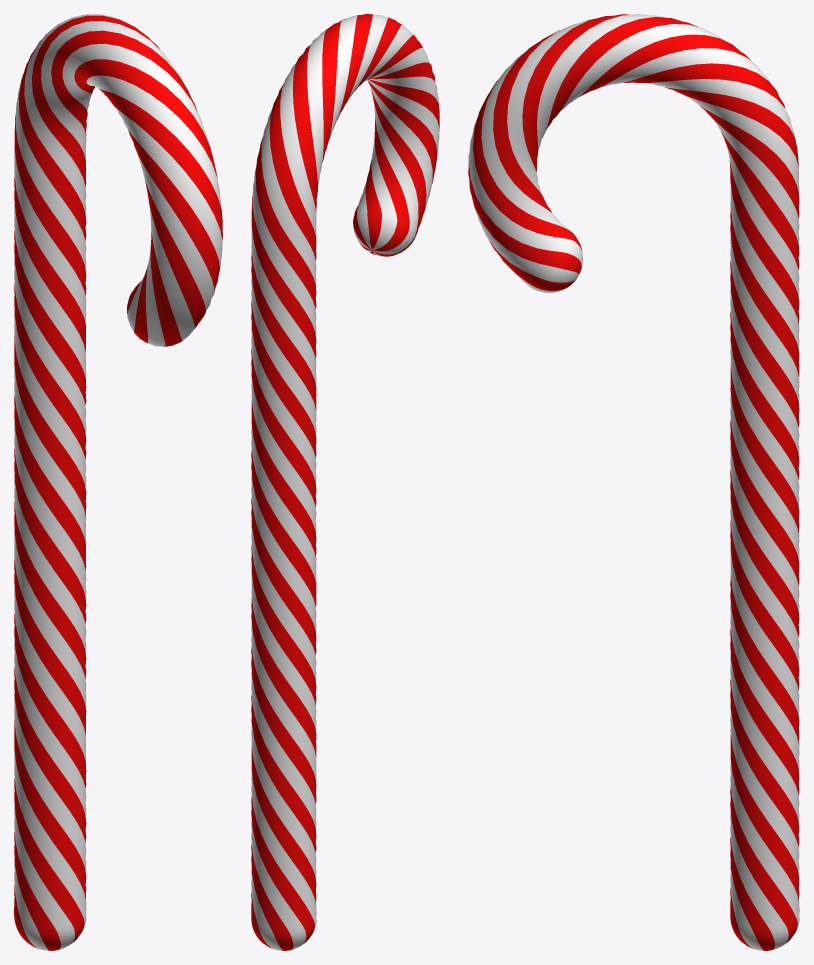
The model's file is Candy_Cane.fbx.
3 views of the same model, side by side, from view 1: azimuth 30°, elevation 25°; view 2: azimuth 150°, elevation 25°; view 3: azimuth 270°, elevation 25° (orthographic). The views are drawn at different scales.
Visible parts, largest first — view 1: Candy_Cane; view 2: Candy_Cane; view 3: Candy_Cane.
Boxes of the visible parts, x1,y1,x2,y2 form: Candy_Cane: (14,14,222,950); Candy_Cane: (251,14,439,950); Candy_Cane: (468,14,799,950).
Bounding box in the file's own units: 42.63 × 629 × 203.
